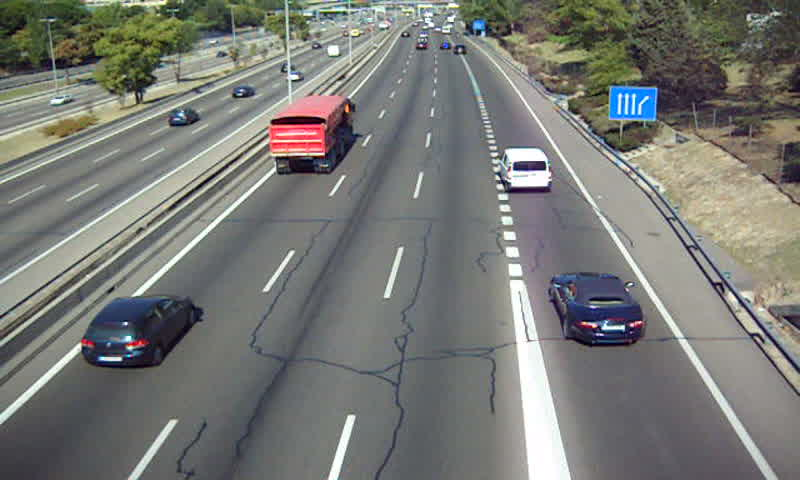car: (81, 294, 193, 366), (552, 274, 646, 344)
truck: (268, 94, 353, 173)
van: (498, 148, 551, 191)
